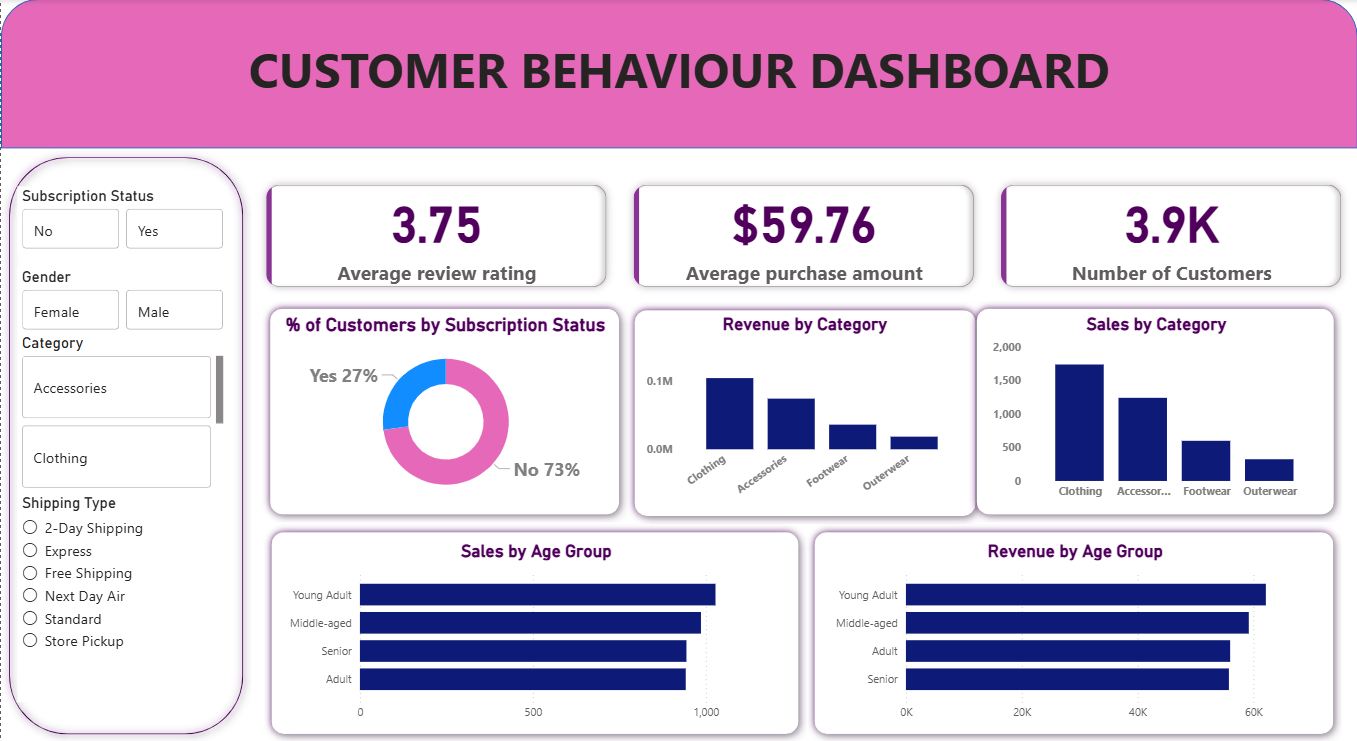

What the dashboard file says about the page in this screenshot:
{"tool":"powerbi","page":{"name":"Page 1","canvas":[1500,820],"ordinal":0},"visuals":[{"type":"cardVisual","fields":{"Data":["customer_behaviour customer_data.Average review rating","customer_behaviour customer_data.Average purchase amount","customer_behaviour customer_data.Number of Customers"]},"box":[276.7,189.6,1222.6,145],"z":0},{"type":"shape","box":[0,0,1499.2,165.2],"z":1000},{"type":"textbox","box":[0,0,1499.2,140.2],"z":2000},{"type":"shape","box":[287.8,332.4,403.8,245.4],"z":3000},{"type":"donutChart","title":"% of Customers by Subscription Status","fields":{"Category":["customer_behaviour customer_data.subscription_status"],"Y":["CountNonNull(customer_behaviour customer_data.customer_id)"]},"box":[307.9,348,365.9,214.2],"z":4000},{"type":"shape","box":[691.6,334.7,394.9,245.4],"z":5000},{"type":"shape","box":[1068.7,332.4,412.7,245.4],"z":6000},{"type":"clusteredColumnChart","title":"Revenue by Category","fields":{"Category":["customer_behaviour customer_data.category"],"Y":["Sum(customer_behaviour customer_data.purchase_amount)"]},"box":[707.2,348,361.4,214.2],"z":7000},{"type":"clusteredColumnChart","title":"Sales by Category","fields":{"Category":["customer_behaviour customer_data.category"],"Y":["CountNonNull(customer_behaviour customer_data.customer_id)"]},"box":[1091,348,372.6,214.2],"z":8000},{"type":"shape","box":[0,165.1,276.7,655.9],"z":9000},{"type":"advancedSlicerVisual","fields":{"Values":["customer_behaviour customer_data.subscription_status"]},"box":[17.8,207.5,232,73.6],"z":10000},{"type":"advancedSlicerVisual","fields":{"Values":["customer_behaviour customer_data.gender"]},"box":[17.8,296.7,232,73.6],"z":11000},{"type":"advancedSlicerVisual","fields":{"Values":["customer_behaviour customer_data.category"]},"box":[17.8,370.4,232,176.3],"z":12000},{"type":"listSlicer","fields":{"Values":["customer_behaviour customer_data.shipping_type"]},"box":[17.8,546.6,232,229.8],"z":13000},{"type":"shape","box":[290,580.1,600.2,241],"z":15000},{"type":"shape","box":[890.2,580.1,591.2,241],"z":16000},{"type":"clusteredBarChart","title":"Revenue by Age Group","fields":{"Y":["Sum(customer_behaviour customer_data.purchase_amount)"],"Category":["customer_behaviour customer_data.age_group"]},"box":[912.5,597.9,551.1,207.5],"z":17000},{"type":"clusteredBarChart","title":"Sales by Age Group","fields":{"Category":["customer_behaviour customer_data.age_group"],"Y":["CountNonNull(customer_behaviour customer_data.customer_id)"]},"box":[307.9,597.9,566.7,207.5],"z":17001}]}

Visuals, with their boxes in screenshot pixels (x1, y1, x2, y2), scaled from the page's 1500x820 canvas onto the 1357x741 screenshot:
cardVisual - customer_behaviour customer_data.Average review rating x customer_behaviour customer_data.Average purchase amount: 250:171:1356:302
shape: 0:0:1356:149
textbox: 0:0:1356:127
shape: 260:300:626:522
"% of Customers by Subscription Status" donutChart: 279:314:610:508
shape: 626:302:983:524
shape: 967:300:1340:522
"Revenue by Category" clusteredColumnChart: 640:314:967:508
"Sales by Category" clusteredColumnChart: 987:314:1324:508
shape: 0:149:250:740
advancedSlicerVisual - customer_behaviour customer_data.subscription_status: 16:188:226:254
advancedSlicerVisual - customer_behaviour customer_data.gender: 16:268:226:335
advancedSlicerVisual - customer_behaviour customer_data.category: 16:335:226:494
listSlicer - customer_behaviour customer_data.shipping_type: 16:494:226:702
shape: 262:524:805:740
shape: 805:524:1340:740
"Revenue by Age Group" clusteredBarChart: 826:540:1324:728
"Sales by Age Group" clusteredBarChart: 279:540:791:728
